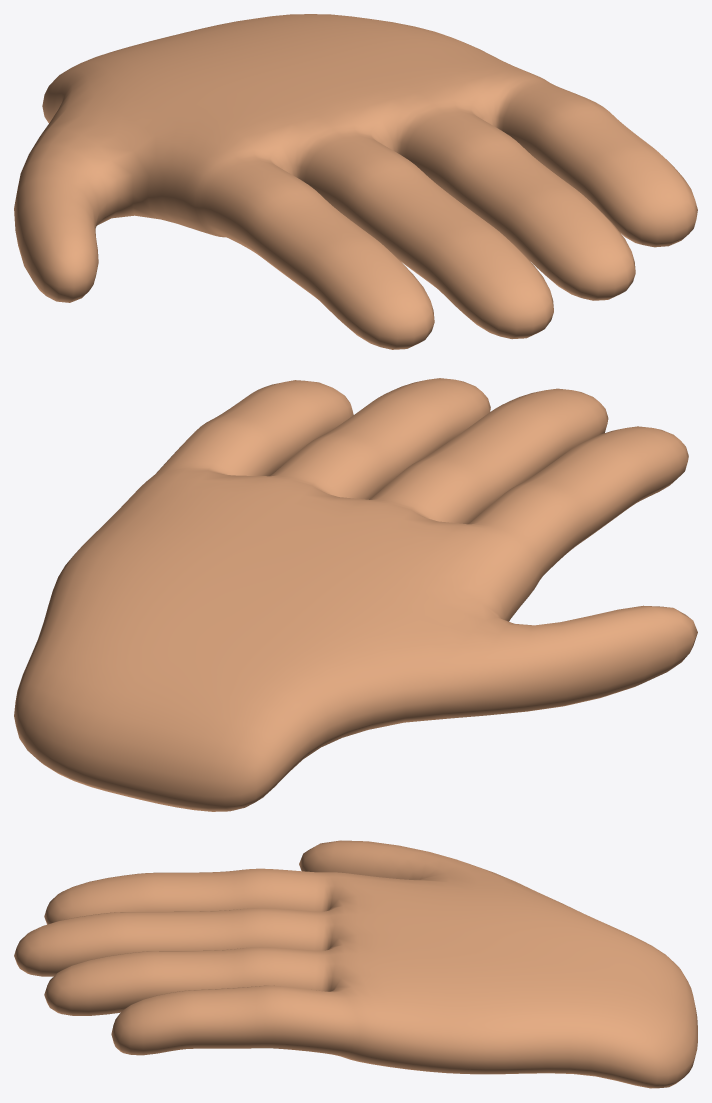
The model's file is ManosSM.fbx.
3 views of the same model, one above another, from view 1: azimuth 30°, elevation 25°; view 2: azimuth 150°, elevation 25°; view 3: azimuth 270°, elevation 25° (orthographic). The views are drawn at different scales.
Parts seen in each view (by area): view 1: Cube; view 2: Cube; view 3: Cube.
Boxes of the visible parts, x1,y1,x2,y2 form: Cube: (14,14,697,349); Cube: (14,378,697,811); Cube: (14,840,697,1088).
Size of the model in its own units: 30.84 by 8.29 by 42.24.
